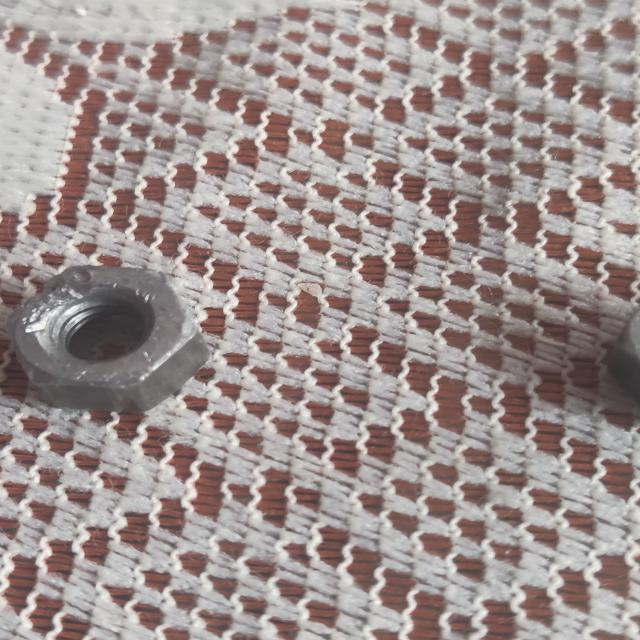infected nut: (10, 265, 210, 412)
